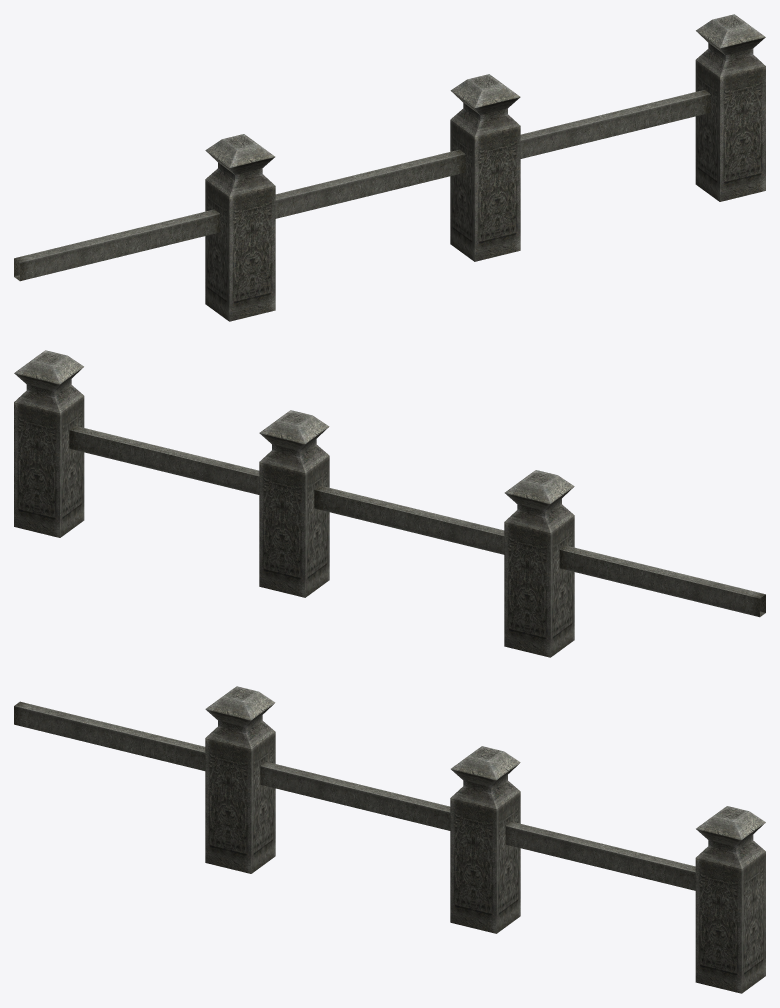
The model's file is stadium_02_02.fbx.
3 views of the same model, one above another, from view 1: azimuth 30°, elevation 25°; view 2: azimuth 150°, elevation 25°; view 3: azimuth 330°, elevation 25° (orthographic).
Parts seen in each view (by area): view 1: stadium_02_02; view 2: stadium_02_02; view 3: stadium_02_02.
Part boxes in pixels (bbox=[...]): stadium_02_02: bbox=[14, 14, 765, 321]; stadium_02_02: bbox=[14, 350, 765, 657]; stadium_02_02: bbox=[14, 686, 765, 993].
Size of the model in its own units: 16.79 by 3.6 by 0.9563.
